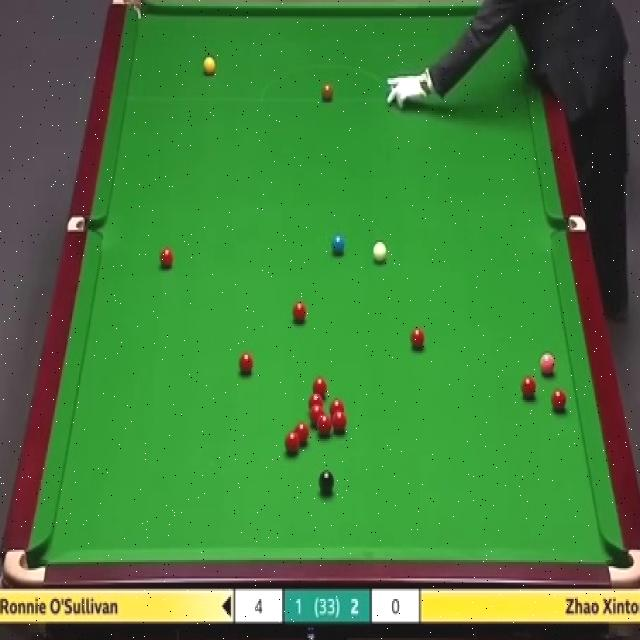black-ball: (317, 470, 335, 492)
blue-ball: (330, 234, 347, 256)
brown-ball: (320, 82, 333, 102)
pink-ball: (538, 352, 557, 377)
red-ball: (521, 373, 537, 400), (550, 388, 567, 412), (292, 300, 307, 325), (294, 421, 309, 446), (409, 326, 425, 349), (333, 409, 347, 434), (286, 430, 300, 455), (238, 351, 253, 373), (312, 376, 327, 398), (310, 404, 324, 426), (318, 414, 332, 436), (159, 248, 173, 270), (307, 393, 323, 411), (329, 397, 346, 413)
white-ball: (373, 241, 388, 265)
yellow-ball: (203, 56, 215, 78)
